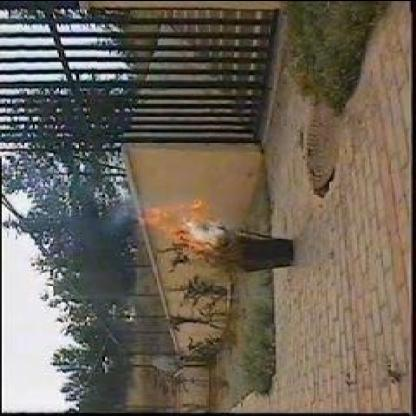-: (187, 224, 221, 240)
foggia-v2-map80-epoch100 - v1 4323: (143, 206, 181, 241)
